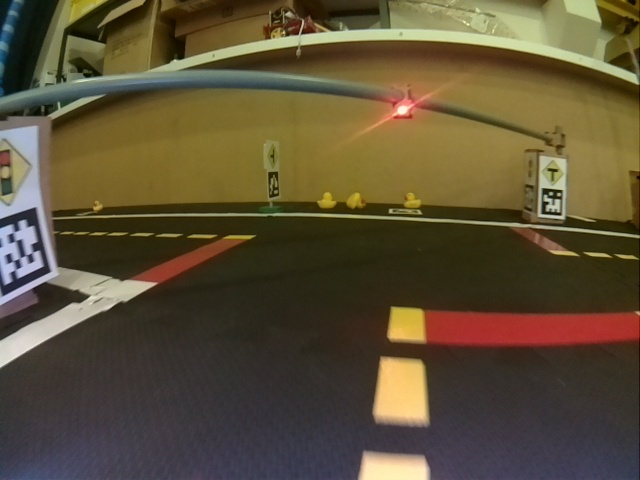Duckie: (316, 192, 335, 208), (347, 194, 365, 209), (404, 194, 421, 207), (93, 201, 103, 211)
Intersection sign: (541, 159, 565, 185), (267, 143, 278, 169)
QR code: (2, 208, 52, 294), (541, 189, 563, 215), (389, 207, 422, 216), (269, 174, 280, 197), (524, 187, 534, 212), (76, 210, 93, 217)
Signal sign: (1, 132, 34, 209), (526, 156, 536, 181)
Traffic light: (392, 86, 414, 119)
